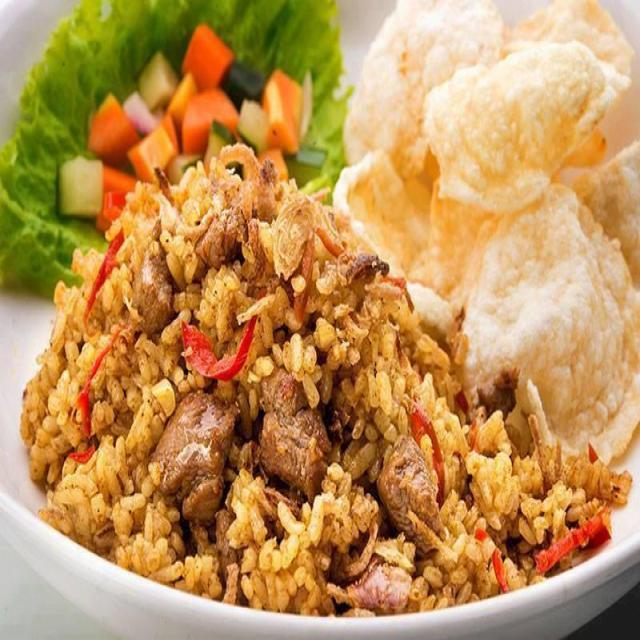Nasi Goreng: (19, 140, 630, 616)
